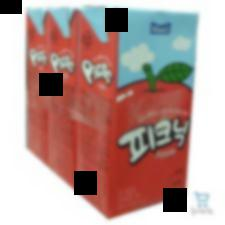picnic_apple: (114, 9, 188, 214)
